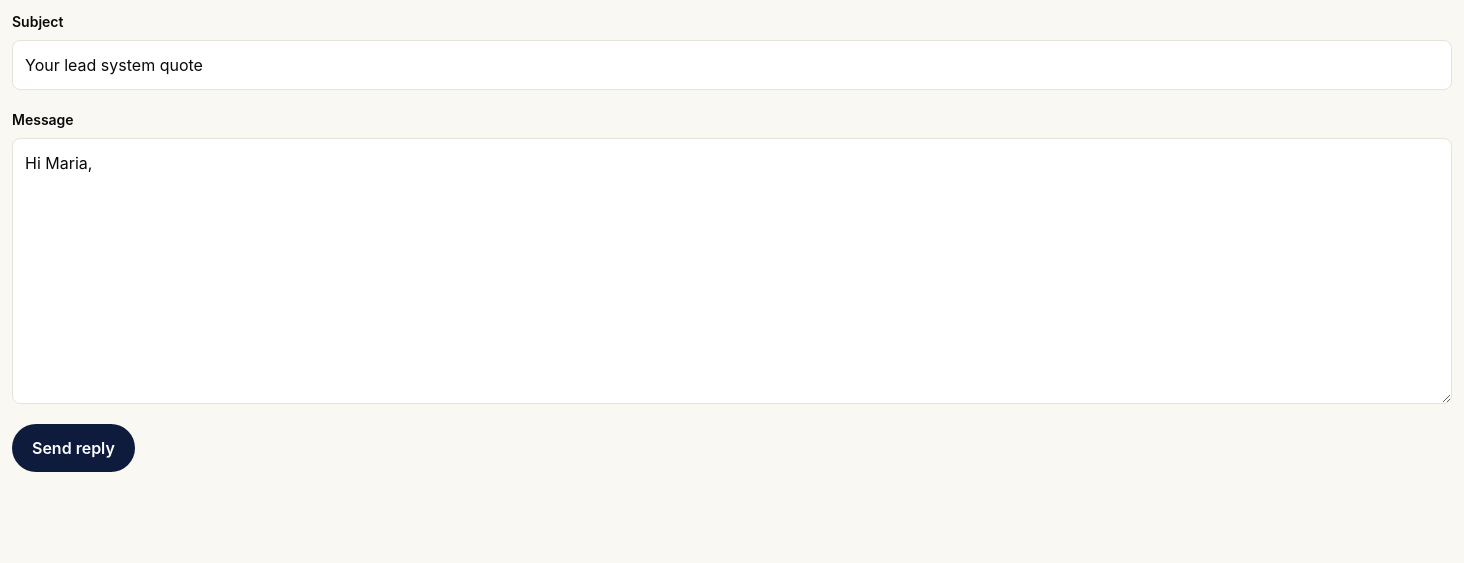
Test: LeadReplyDraft › shows an error and keeps the edited draft when sending fails
The image size is (1464, 563).
Type " Thanks." into the text box labelled "Message" at (732, 271), box [12,138,1452,404]
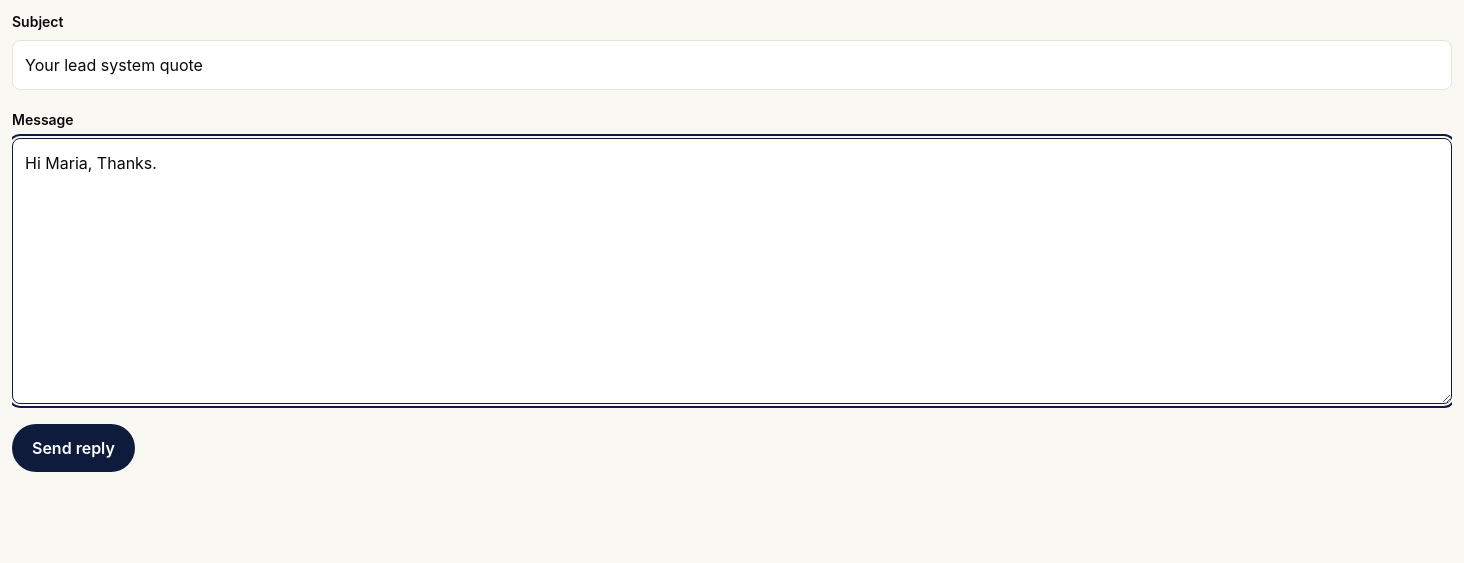
Click the button "Send reply" at (73, 448), box [12,424,135,472]
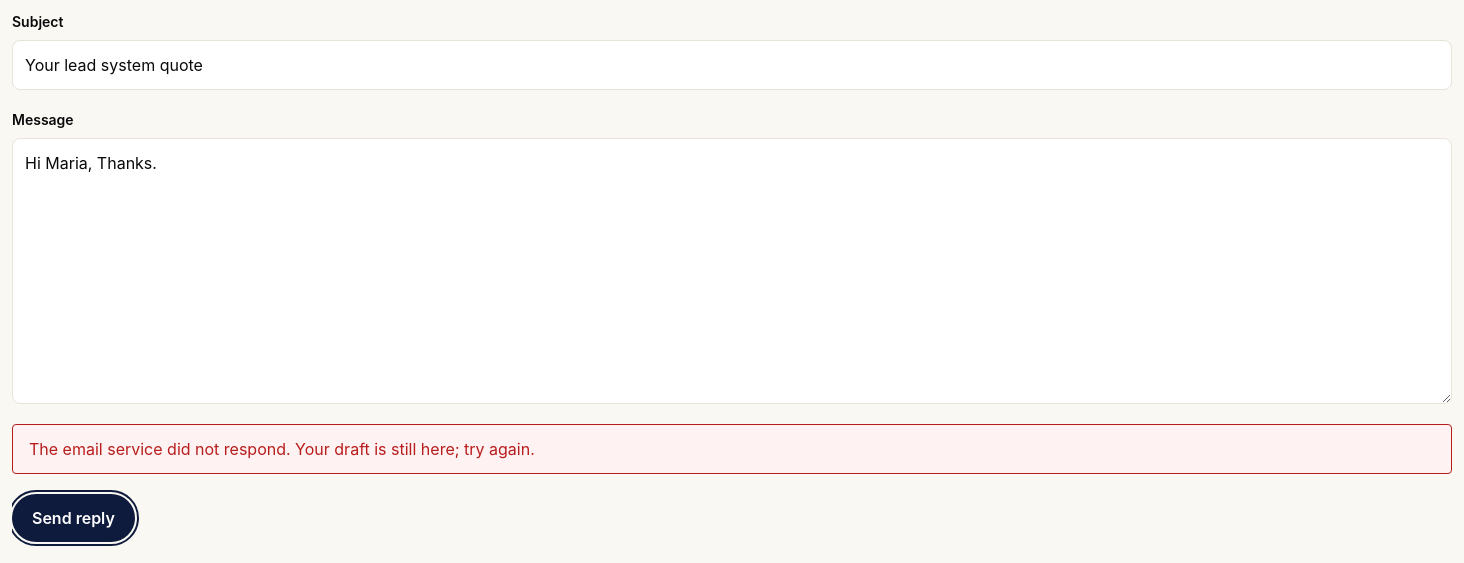
Now the text box labelled "Message" holds "Hi Maria, Thanks.", box [12,138,1452,404]
Now the message shows "The email service did not respond.", box [29,439,535,459]
